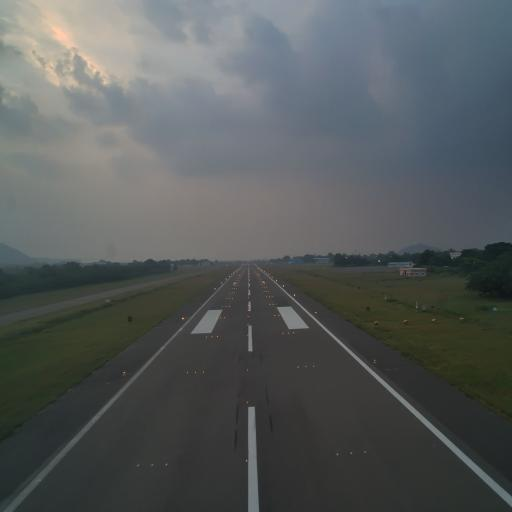on: (150, 460, 156, 472), (348, 448, 354, 458), (245, 454, 249, 466), (164, 461, 170, 468), (335, 452, 341, 459), (362, 447, 368, 454), (135, 462, 140, 470), (122, 369, 126, 376), (305, 364, 308, 371), (245, 400, 249, 405), (246, 368, 250, 373), (194, 369, 197, 375), (202, 369, 205, 375), (372, 358, 376, 362), (297, 363, 299, 371), (312, 364, 315, 369), (187, 370, 189, 376)
